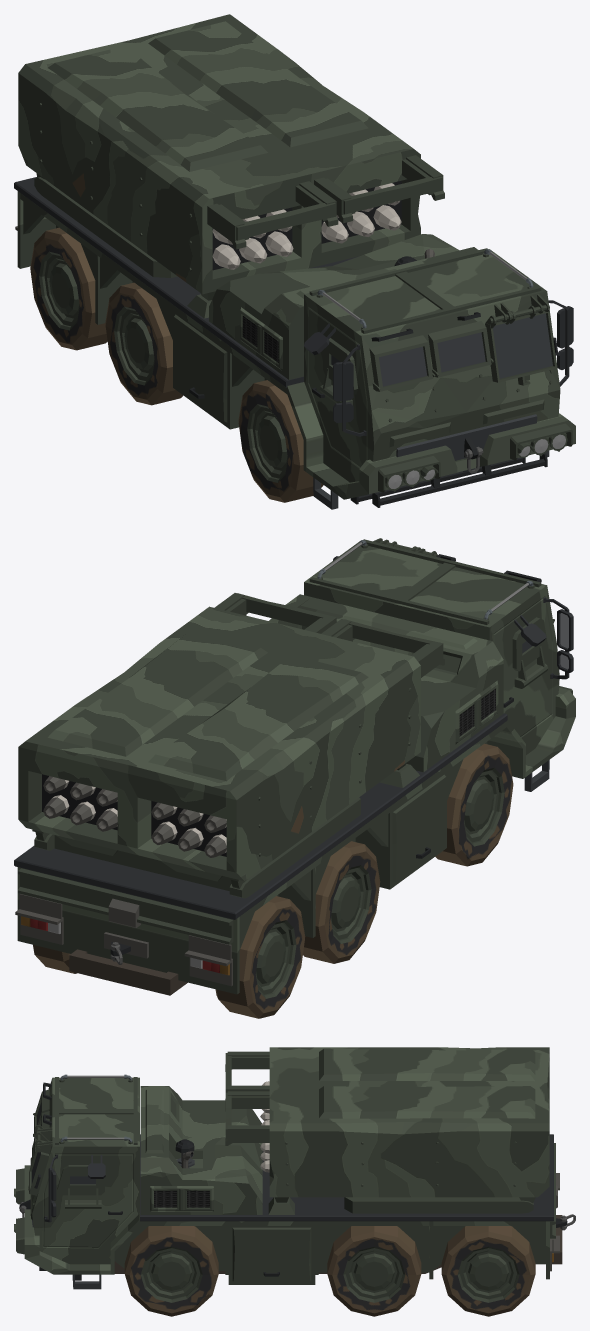
File: SM_Veh_Rocket_Truck_01.fbx
3 renders of one model, top to bottom at view 1: azimuth 30°, elevation 25°; view 2: azimuth 150°, elevation 25°; view 3: azimuth 270°, elevation 25°, orthographic. The views are drawn at different scales.
Parts seen in each view (by area): view 1: SM_Veh_Rocket_Truck_01, SM_Veh_Rocket_Truck_01_Rocket_Battery, SM_Veh_Rocket_Truck_01_Wheel_rr2, SM_Veh_Rocket_Truck_01_Wheel_rr1, SM_Veh_Rocket_Truck_01_Wheel_fr, SM_Veh_Rocket_Truck_01_Glass, SM_Veh_Rocket_Truck_01_Base; view 2: SM_Veh_Rocket_Truck_01_Rocket_Battery, SM_Veh_Rocket_Truck_01, SM_Veh_Rocket_Truck_01_Wheel_rr2, SM_Veh_Rocket_Truck_01_Wheel_rr1, SM_Veh_Rocket_Truck_01_Wheel_fr, SM_Veh_Rocket_Truck_01_Base, SM_Veh_Rocket_Truck_01_Wheel_rl2; view 3: SM_Veh_Rocket_Truck_01, SM_Veh_Rocket_Truck_01_Rocket_Battery, SM_Veh_Rocket_Truck_01_Wheel_rl2, SM_Veh_Rocket_Truck_01_Wheel_fl, SM_Veh_Rocket_Truck_01_Wheel_rl1, SM_Veh_Rocket_Truck_01_Base.
Boxes of the visible parts, x1,y1,x2,y2 form: SM_Veh_Rocket_Truck_01: (14,177,575,509); SM_Veh_Rocket_Truck_01_Rocket_Battery: (18,14,444,300); SM_Veh_Rocket_Truck_01_Wheel_rr2: (30,227,107,350); SM_Veh_Rocket_Truck_01_Wheel_rr1: (105,282,182,405); SM_Veh_Rocket_Truck_01_Wheel_fr: (238,380,323,502); SM_Veh_Rocket_Truck_01_Glass: (379,313,552,386); SM_Veh_Rocket_Truck_01_Base: (34,177,177,277); SM_Veh_Rocket_Truck_01_Rocket_Battery: (18,593,444,888); SM_Veh_Rocket_Truck_01: (14,538,575,995); SM_Veh_Rocket_Truck_01_Wheel_rr2: (215,896,305,1018); SM_Veh_Rocket_Truck_01_Wheel_rr1: (303,841,380,963); SM_Veh_Rocket_Truck_01_Wheel_fr: (435,743,513,866); SM_Veh_Rocket_Truck_01_Base: (34,797,360,898); SM_Veh_Rocket_Truck_01_Wheel_rl2: (33,945,76,973); SM_Veh_Rocket_Truck_01: (14,1074,575,1289); SM_Veh_Rocket_Truck_01_Rocket_Battery: (225,1047,549,1203); SM_Veh_Rocket_Truck_01_Wheel_rl2: (441,1226,535,1316); SM_Veh_Rocket_Truck_01_Wheel_fl: (124,1226,218,1316); SM_Veh_Rocket_Truck_01_Wheel_rl1: (327,1226,421,1316); SM_Veh_Rocket_Truck_01_Base: (344,1197,533,1213).
Size of the model in its own units: 349 by 359 by 929.
